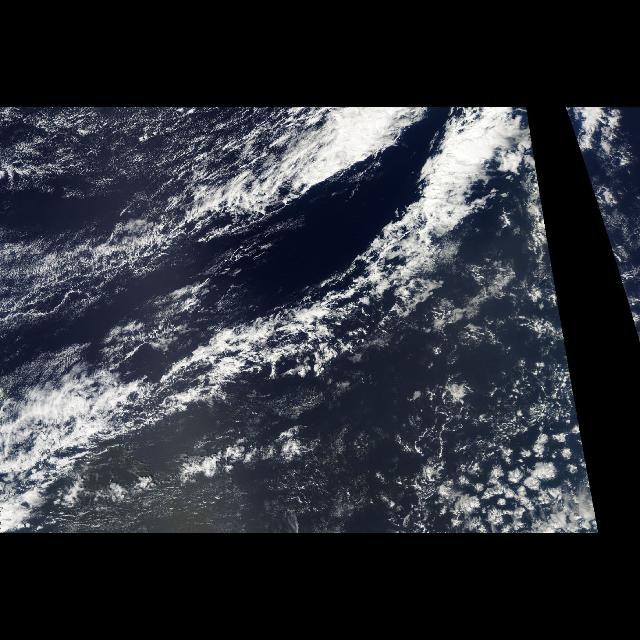Fish: (177, 291, 419, 401)
Flower: (410, 386, 588, 534)
Sugar: (0, 108, 274, 356)
